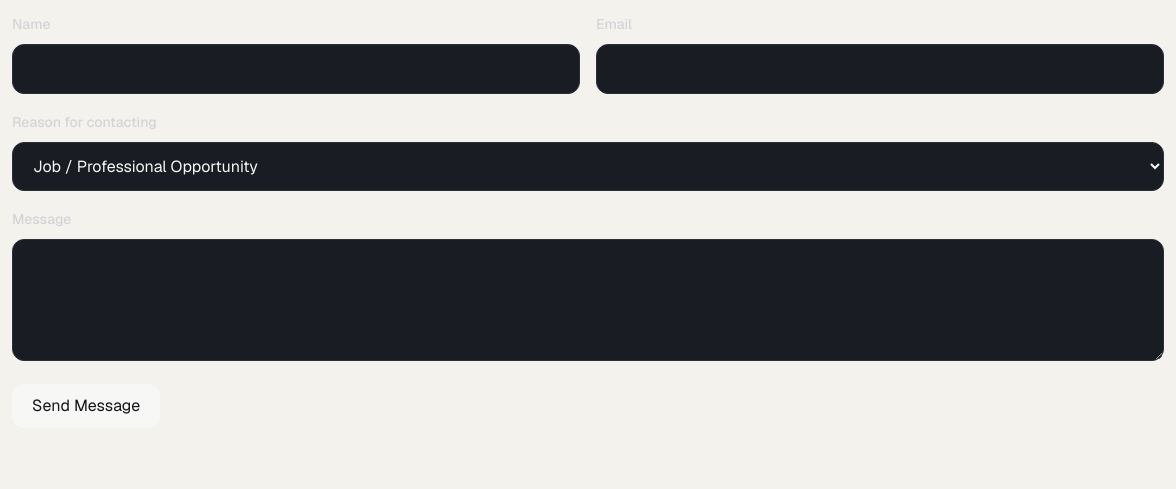
Test: ContactForm › renders field errors returned by the API
Type "Mohammad Shahil Khan" into the field labelled "Name" at coordinates (296, 69), box left=12, top=44, right=580, bottom=94
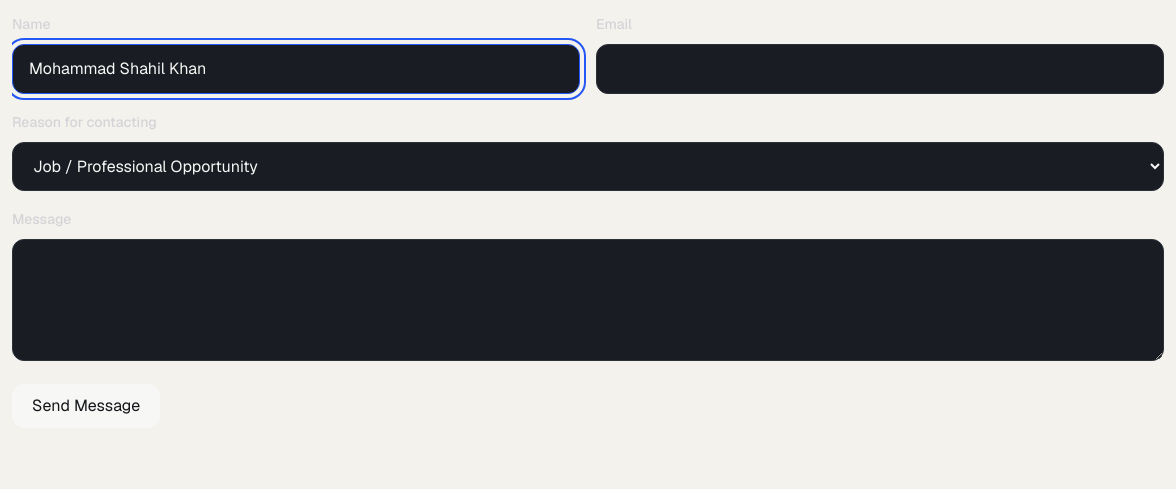
Type "invalid-email" into the field labelled "Email" at coordinates (880, 69), box left=596, top=44, right=1164, bottom=94
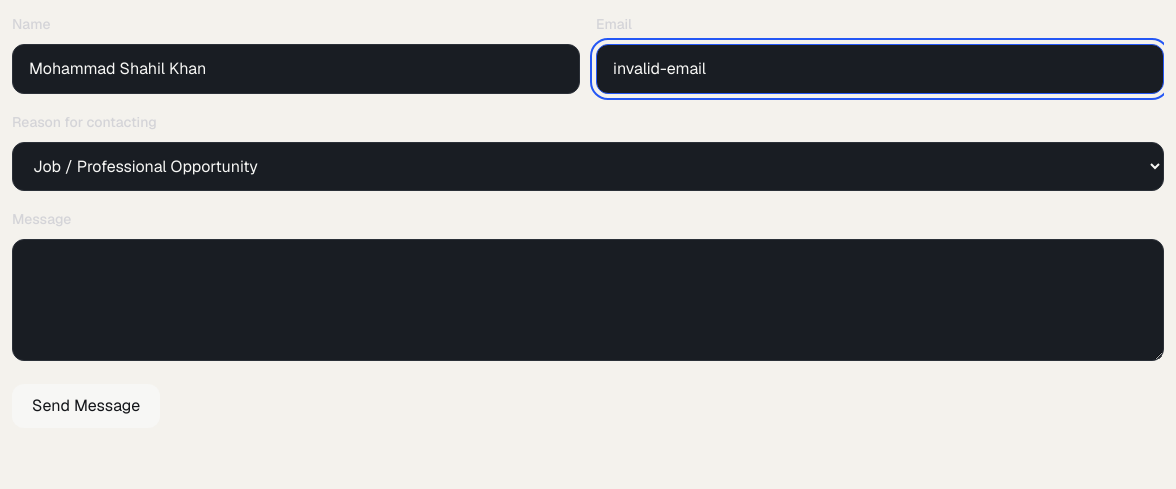
Type "Too short." into the text box labelled "Message" at coordinates (588, 300), box left=12, top=239, right=1164, bottom=361
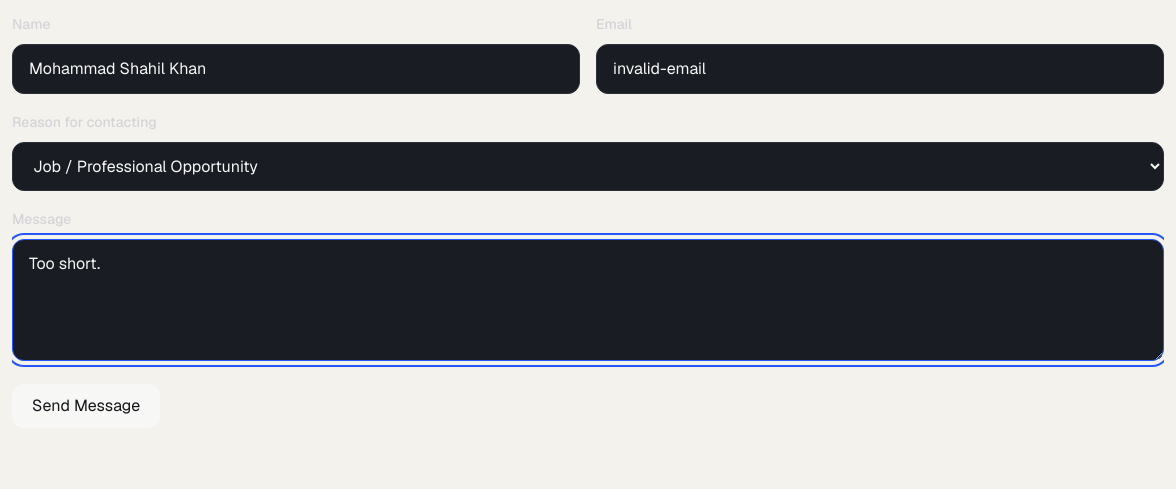
Click the button "Send Message" at coordinates (86, 406), box left=12, top=384, right=160, bottom=428
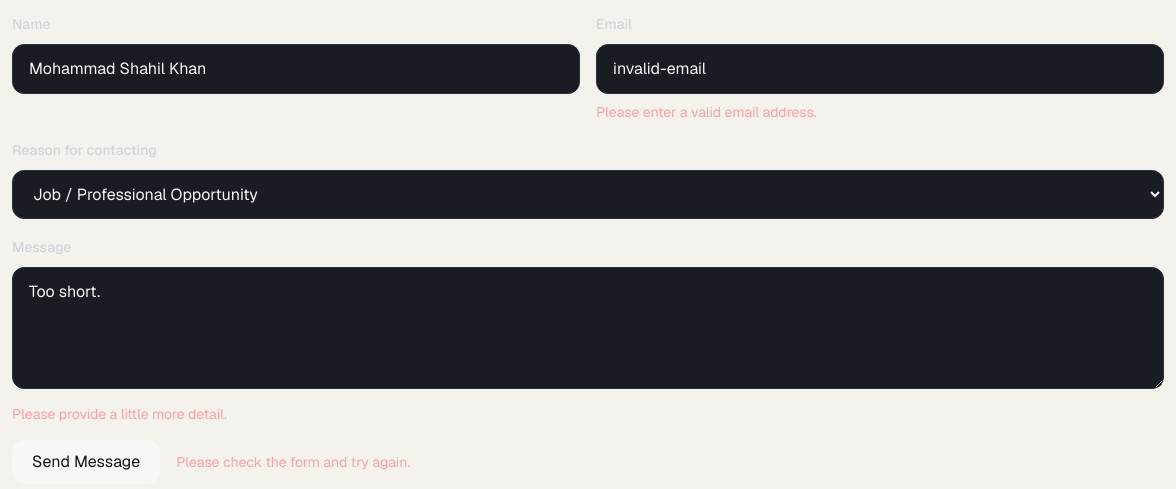
Now the text "Please enter a valid email address." is shown, box left=596, top=103, right=816, bottom=121
Now the text "Please provide a little more detail." is shown, box left=12, top=405, right=227, bottom=423
Now the text "Please check the form and try again." is shown, box left=176, top=452, right=410, bottom=472
